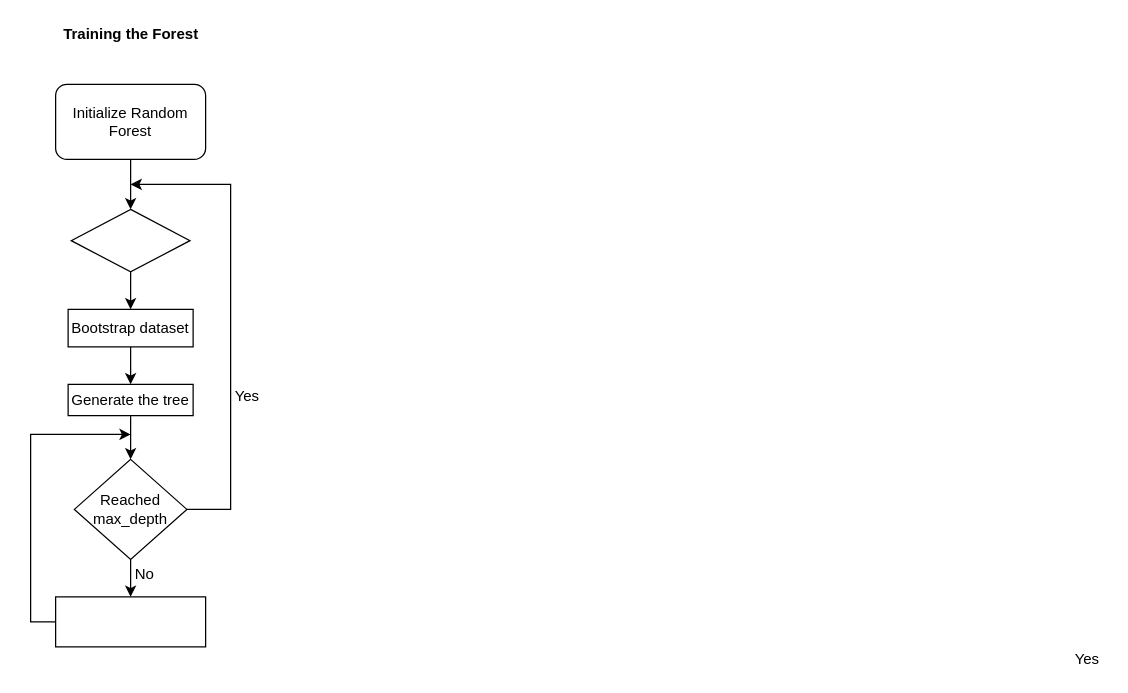
The diagram is 1128 pixels wide and 693 high, and some of its shapes have lost their labels. The shapes that lost their labels are listed below. From the top down, each one's box as (x1, y1, x2, y2) in pixels, then its label:
(70, 208, 190, 272): For each tree
(54, 596, 206, 647): Find best split based on Information Gain
